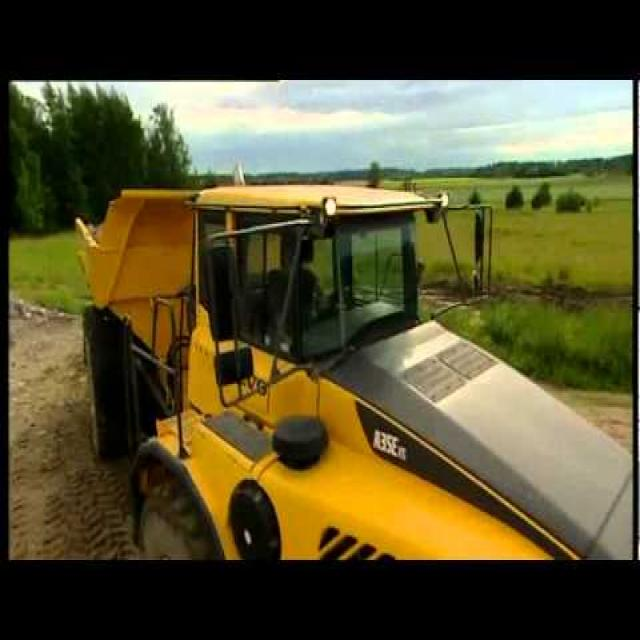dump_truck: (71, 167, 636, 560)
